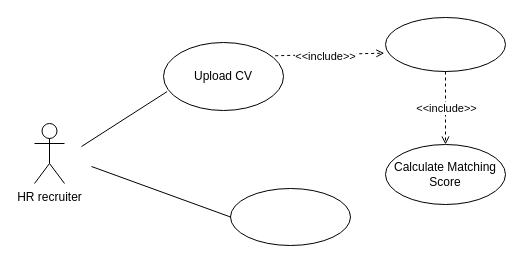
The diagram is 523 pixels wide and 263 high, and some of its shapes have lost their labels. The box of each missing label's shape, as (x1, y1, x2, y2) in pixels:
AI Parse CV: (384, 16, 506, 72)
View Candidate Ranking: (230, 188, 350, 246)
